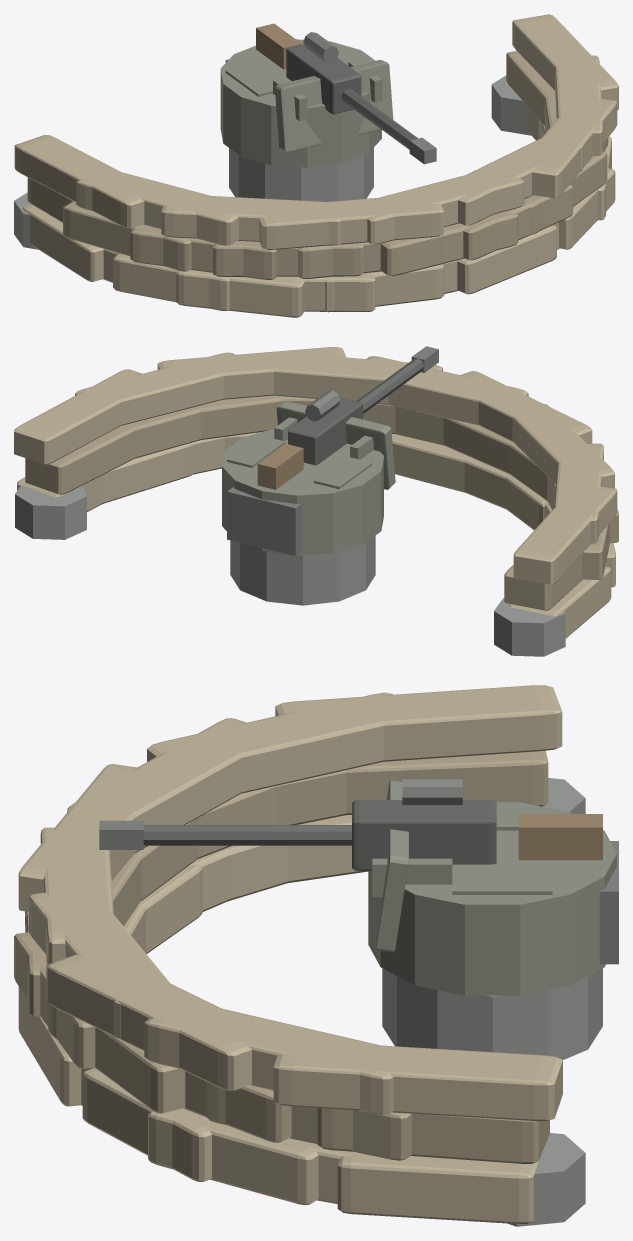
Rendered from mg_emplacement.glb.
The picture shows the model from 3 angles, top to bottom: view 1: azimuth 30°, elevation 25°; view 2: azimuth 150°, elevation 25°; view 3: azimuth 270°, elevation 25°; orthographic projection. The views are drawn at different scales.
Parts seen in each view (by area): view 1: MG_TurretBody, Sandbag_2_0, Sandbag_2_3, MG_Pedestal, Sandbag_2_4, Sandbag_2_6, Sandbag_2_2, Sandbag_2_8, Sandbag_2_1, Sandbag_0_3, MG_GunShield, Sandbag_1_5 (+28 smaller); view 2: MG_TurretBody, MG_Pedestal, Sandbag_2_8, Sandbag_2_0, Sandbag_2_7, Sandbag_2_5, Sandbag_2_4, Sandbag_1_10, Sandbag_2_3, Sandbag_2_6, MG_TurretRear, Sandbag_2_2 (+26 smaller); view 3: MG_TurretBody, Sandbag_2_8, Sandbag_2_0, MG_Pedestal, Sandbag_2_6, Sandbag_0_12, Sandbag_2_1, Sandbag_2_2, Sandbag_2_7, MG_Receiver, Sandbag_0_10, Sandbag_1_0 (+31 smaller).
Part boxes in pixels (x1,y1,x2,y2): MG_TurretBody: (220,39,381,167); Sandbag_2_0: (14,135,152,228); Sandbag_2_3: (259,194,443,249); MG_Pedestal: (229,148,373,201); Sandbag_2_4: (362,168,524,244); Sandbag_2_6: (523,98,617,198); Sandbag_2_2: (161,194,341,245); Sandbag_2_8: (512,14,618,110); Sandbag_2_1: (76,172,239,245); Sandbag_0_3: (176,269,304,317); MG_GunShield: (275,60,393,152); Sandbag_1_5: (380,211,518,276); MG_TurretBody: (222,429,383,555); MG_Pedestal: (230,535,375,605); Sandbag_2_8: (14,369,150,464); Sandbag_2_0: (513,486,617,584); Sandbag_2_7: (75,352,240,425); Sandbag_2_5: (270,352,442,404); Sandbag_2_4: (362,356,528,425); Sandbag_1_10: (25,420,145,494); Sandbag_2_3: (451,371,592,443); Sandbag_2_6: (157,347,346,399); MG_TurretRear: (227,487,301,556); Sandbag_2_2: (512,404,614,488); MG_TurretBody: (368,802,616,995); Sandbag_2_8: (273,1042,562,1120); Sandbag_2_0: (275,685,562,761); MG_Pedestal: (382,968,602,1059); Sandbag_2_6: (46,953,264,1090); Sandbag_0_12: (337,1153,538,1223); Sandbag_2_1: (147,692,401,793); Sandbag_2_2: (67,718,266,852); Sandbag_2_7: (144,1002,399,1114); MG_Receiver: (352,800,496,870); Sandbag_0_10: (148,1108,318,1205); Sandbag_1_0: (346,750,548,814).
Size of the model in its own units: 4.76 by 1.36 by 3.02.
